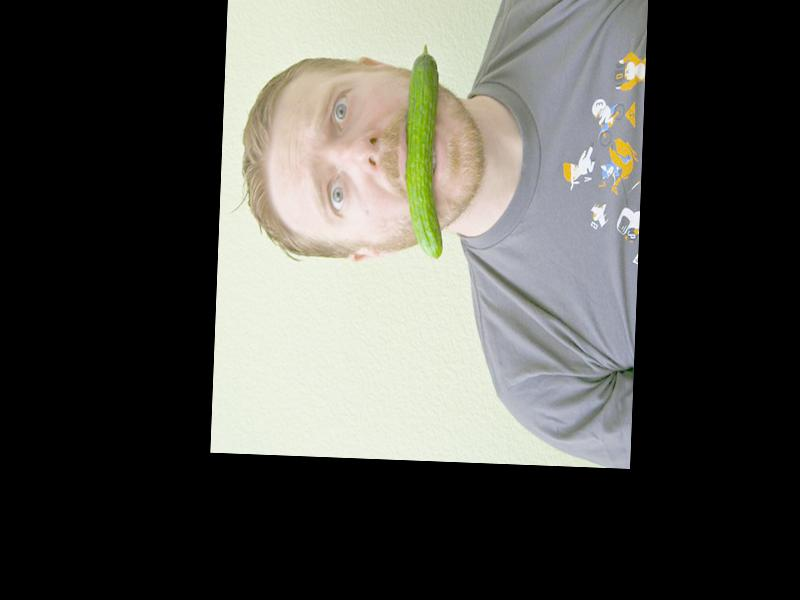Cucumber: (402, 43, 450, 261)
